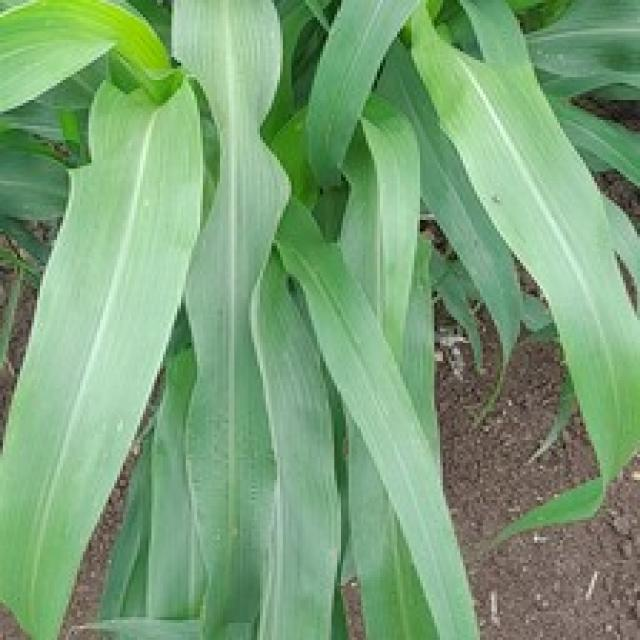Corn: (0, 0, 637, 637), (0, 66, 206, 637), (406, 0, 637, 500), (166, 0, 291, 637), (0, 0, 171, 120)
